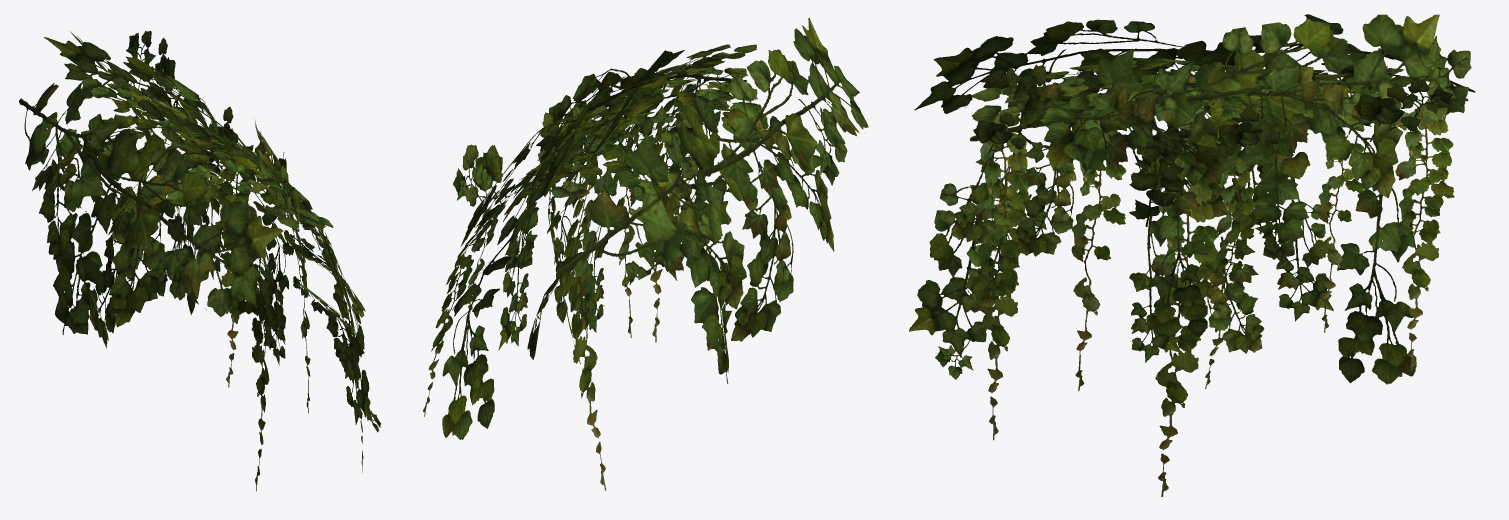
The model's file is bg_anh_foliage_te_v02_01_sm_old.FBX.
3 renders of one model, left to right at view 1: azimuth 30°, elevation 25°; view 2: azimuth 150°, elevation 25°; view 3: azimuth 270°, elevation 25°, orthographic. The views are drawn at different scales.
Parts seen in each view (by area): view 1: bg_anh_foliage_te_v02_01_sm_old; view 2: bg_anh_foliage_te_v02_01_sm_old; view 3: bg_anh_foliage_te_v02_01_sm_old.
Boxes of the visible parts, box(x1,y1,x2,y2) form: bg_anh_foliage_te_v02_01_sm_old: box(19, 30, 380, 491); bg_anh_foliage_te_v02_01_sm_old: box(423, 17, 868, 490); bg_anh_foliage_te_v02_01_sm_old: box(909, 14, 1475, 496).
Bounding box in the file's own units: 60.53 × 106 × 124.
